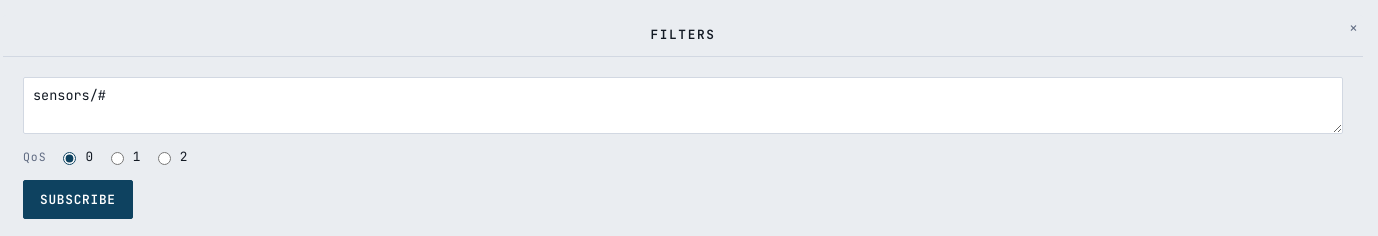
Test: SubscribePanel › subscribing to a list at once › has nothing to send from an empty box
Clear the text box named "Topic filter": (683, 105) x1=23 y1=77 x2=1343 y2=134
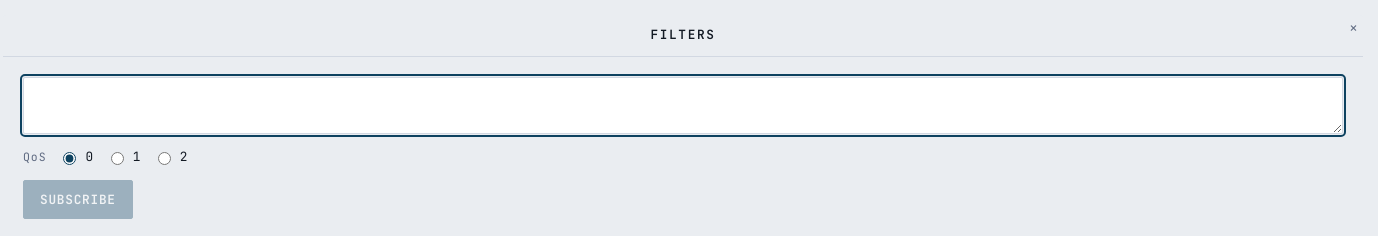
Expected: the button "Subscribe" is disabled, x1=23 y1=180 x2=133 y2=219
